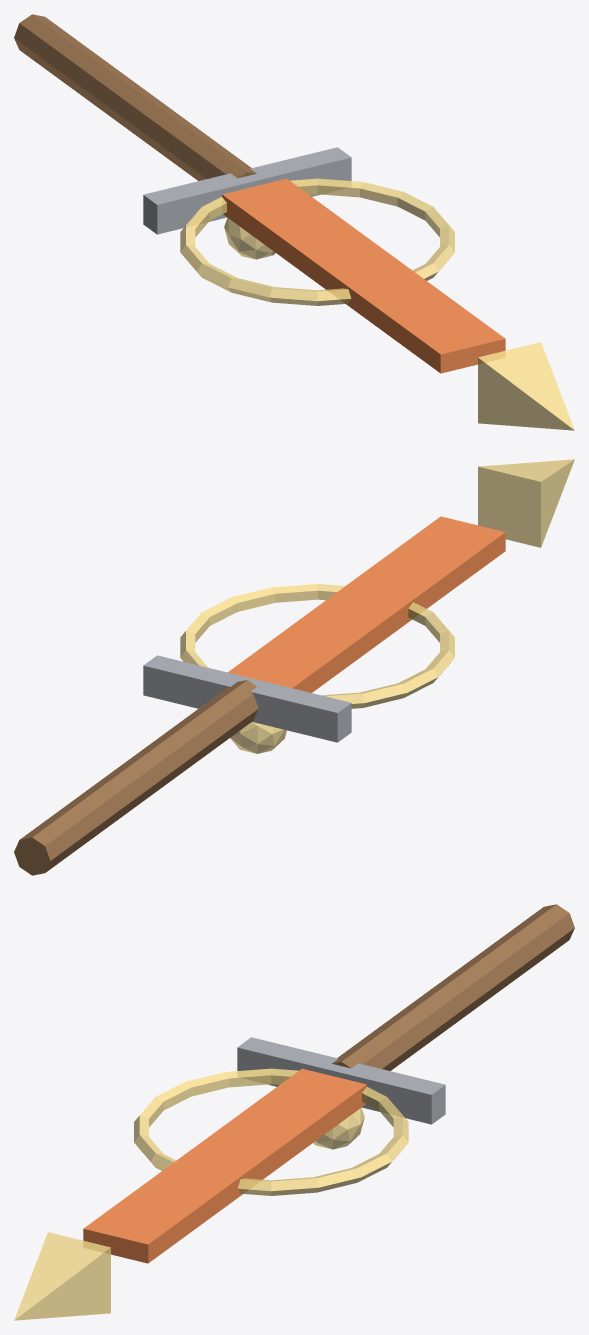
The model's file is 03_magic_weapon_upgrade.glb.
3 views of the same model, one above another, from view 1: azimuth 30°, elevation 25°; view 2: azimuth 150°, elevation 25°; view 3: azimuth 330°, elevation 25° (orthographic).
Visible parts, largest first — view 1: enchanted_blade_or_focus, weapon_handle, rune_orbit, weapon_guard, weapon_tip, gem_socket; view 2: enchanted_blade_or_focus, weapon_handle, weapon_guard, weapon_tip, rune_orbit, gem_socket; view 3: enchanted_blade_or_focus, weapon_handle, rune_orbit, weapon_guard, weapon_tip, gem_socket.
Part boxes in pixels (x1,y1,x2,y2): enchanted_blade_or_focus: (222, 178, 505, 373); weapon_handle: (14, 14, 256, 180); rune_orbit: (180, 178, 454, 305); weapon_guard: (143, 147, 351, 234); weapon_tip: (478, 342, 574, 430); gem_socket: (224, 217, 275, 259); enchanted_blade_or_focus: (228, 516, 505, 692); weapon_handle: (14, 680, 258, 875); weapon_guard: (143, 655, 351, 742); weapon_tip: (478, 459, 574, 547); rune_orbit: (180, 584, 454, 708); gem_socket: (230, 722, 286, 753); enchanted_blade_or_focus: (83, 1068, 366, 1263); weapon_handle: (332, 904, 574, 1070); rune_orbit: (134, 1068, 408, 1195); weapon_guard: (237, 1037, 445, 1124); weapon_tip: (14, 1232, 110, 1320); gem_socket: (313, 1107, 364, 1149).
Bounding box in the file's own units: 0.596 × 0.2178 × 2.32.
